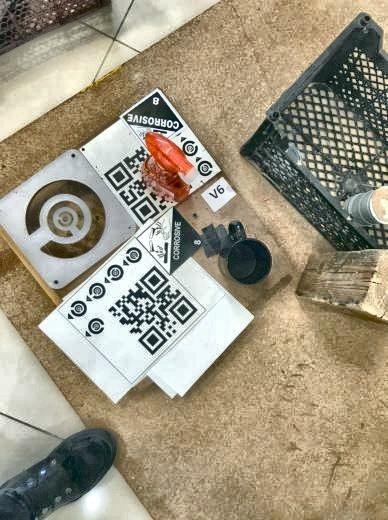corrosive: (134, 206, 205, 276), (117, 87, 189, 154)
